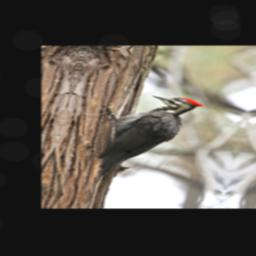Woodpecker: (80, 90, 206, 189)
